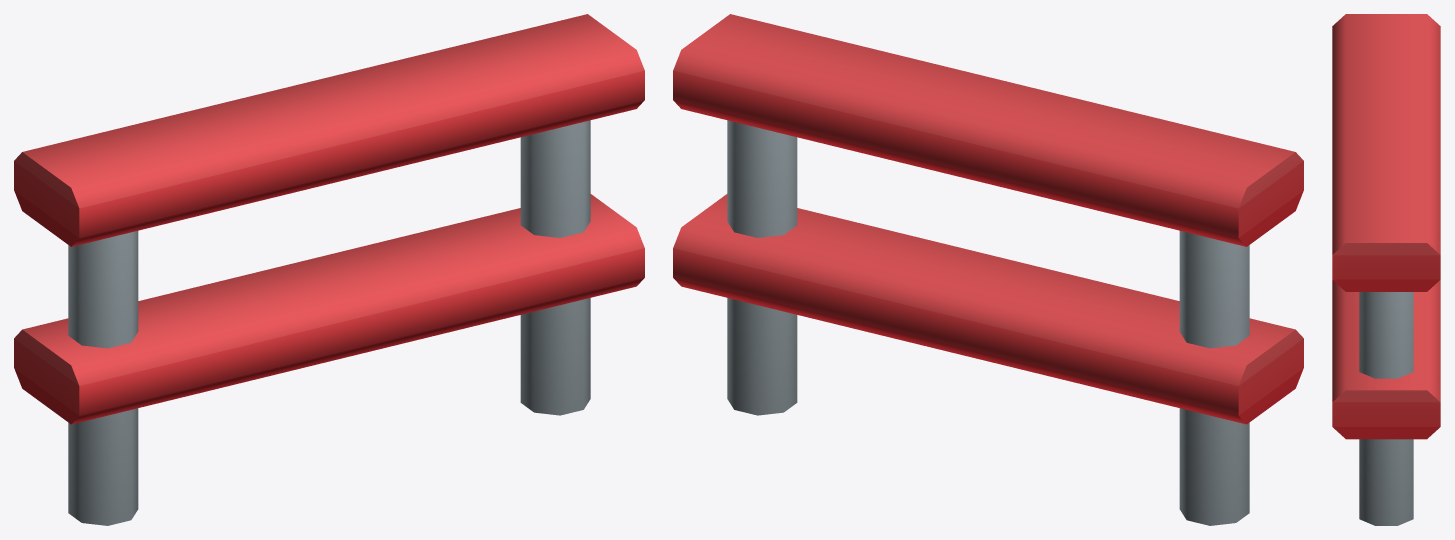
The model's file is railing_straight_double_red.glb.
3 renders of one model, left to right at view 1: azimuth 30°, elevation 25°; view 2: azimuth 150°, elevation 25°; view 3: azimuth 270°, elevation 25°, orthographic. The views are drawn at different scales.
Parts seen in each view (by area): view 1: railing_straight_double_red; view 2: railing_straight_double_red; view 3: railing_straight_double_red.
Part boxes in pixels (x1=…): railing_straight_double_red: x1=14, y1=14, x2=644, y2=525; railing_straight_double_red: x1=673, y1=14, x2=1303, y2=525; railing_straight_double_red: x1=1332, y1=14, x2=1440, y2=525.
Size of the model in its own units: 2 by 1.2 by 0.4.
Materials: 1 (1 with a texture image).
